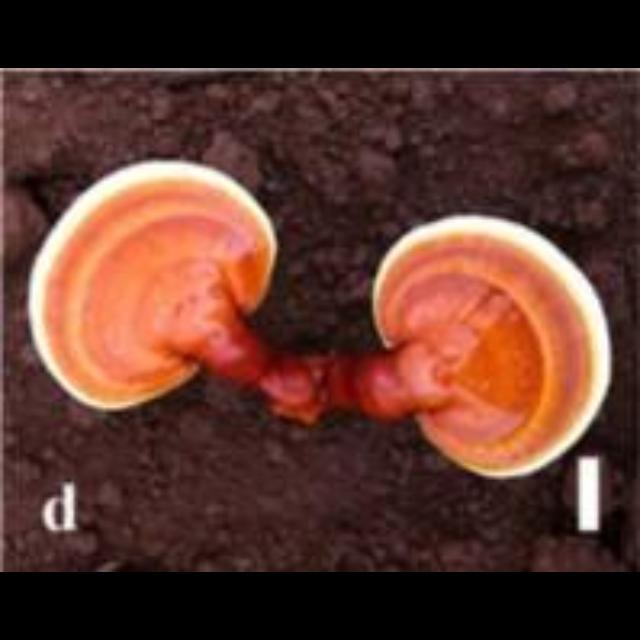ganoderma: (370, 212, 617, 482), (24, 160, 281, 417)
